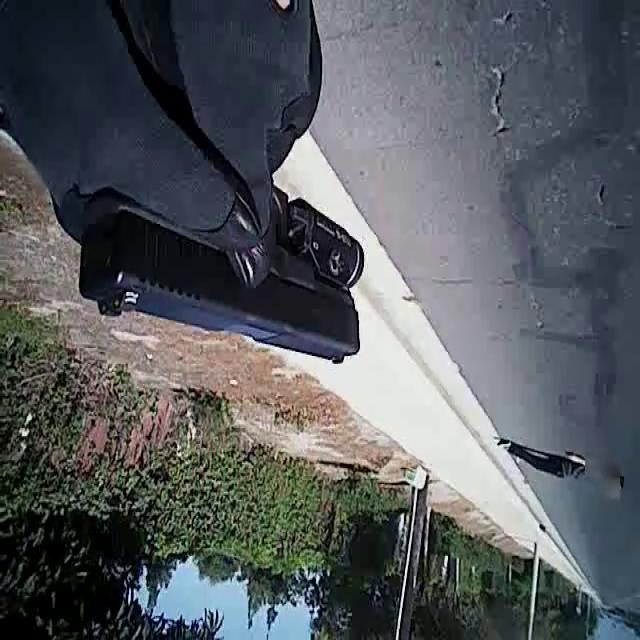gun: (66, 89, 398, 419)
